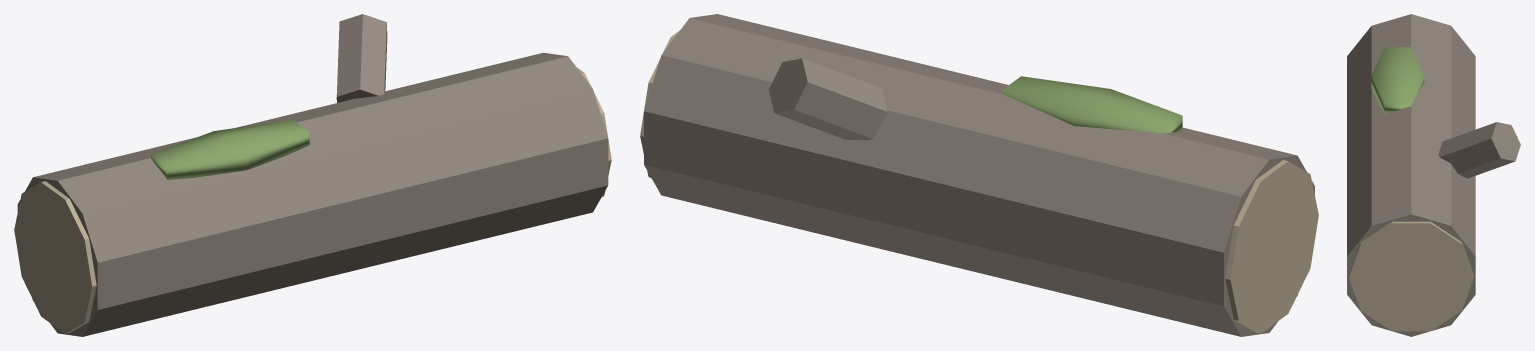
File: gourd-prop-log-one.glb
3 renders of one model, left to right at view 1: azimuth 30°, elevation 25°; view 2: azimuth 150°, elevation 25°; view 3: azimuth 270°, elevation 25°, orthographic. The views are drawn at different scales.
Parts seen in each view (by area): view 1: gourd-prop-log; view 2: gourd-prop-log; view 3: gourd-prop-log.
Boxes of the visible parts, x1,y1,x2,y2 form: gourd-prop-log: (14,14,611,336); gourd-prop-log: (640,14,1318,336); gourd-prop-log: (1347,14,1520,336).
Bounding box in the file's own units: 0.1425 × 0.0506 × 0.0514.
